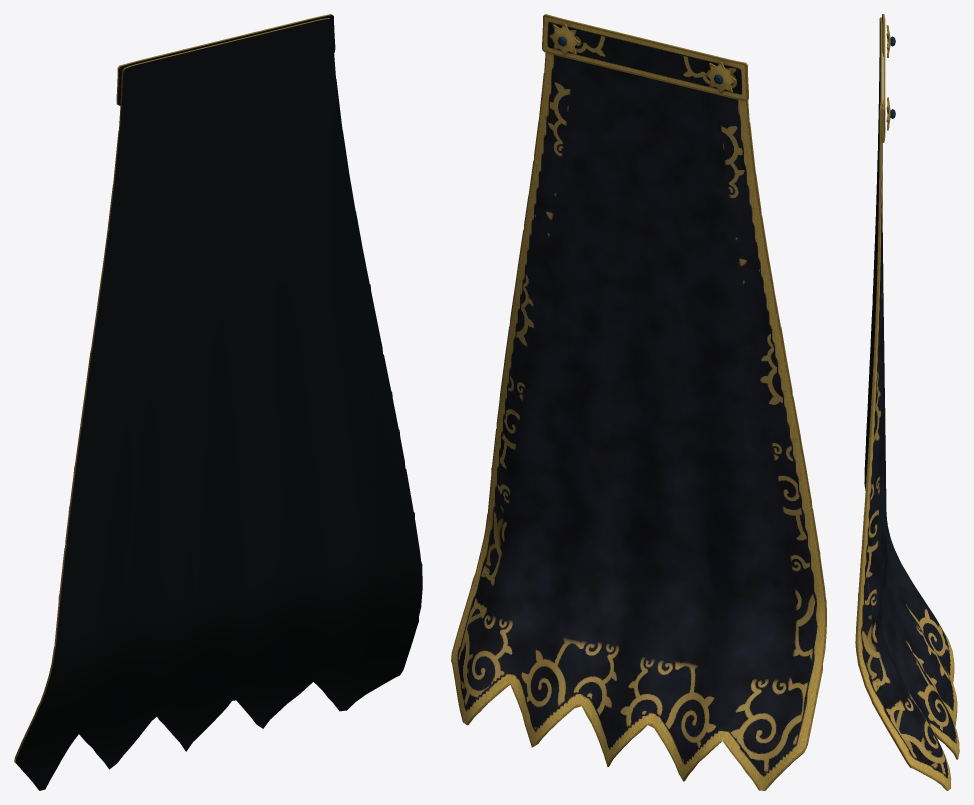
The model's file is cape_infernal.glb.
The picture shows the model from 3 angles, left to right: view 1: azimuth 30°, elevation 25°; view 2: azimuth 150°, elevation 25°; view 3: azimuth 270°, elevation 25°; orthographic projection. The views are drawn at different scales.
Visible parts, largest first — view 1: cape; view 2: cape; view 3: cape.
Part boxes in pixels (left/top/right/bottom): cape: left=14, top=14, right=422, bottom=790; cape: left=451, top=14, right=826, bottom=790; cape: left=855, top=14, right=959, bottom=790.
Bounding box in the file's own units: 0.5469 × 1.01 × 0.1434.
Materials: 1 (1 with a texture image).
